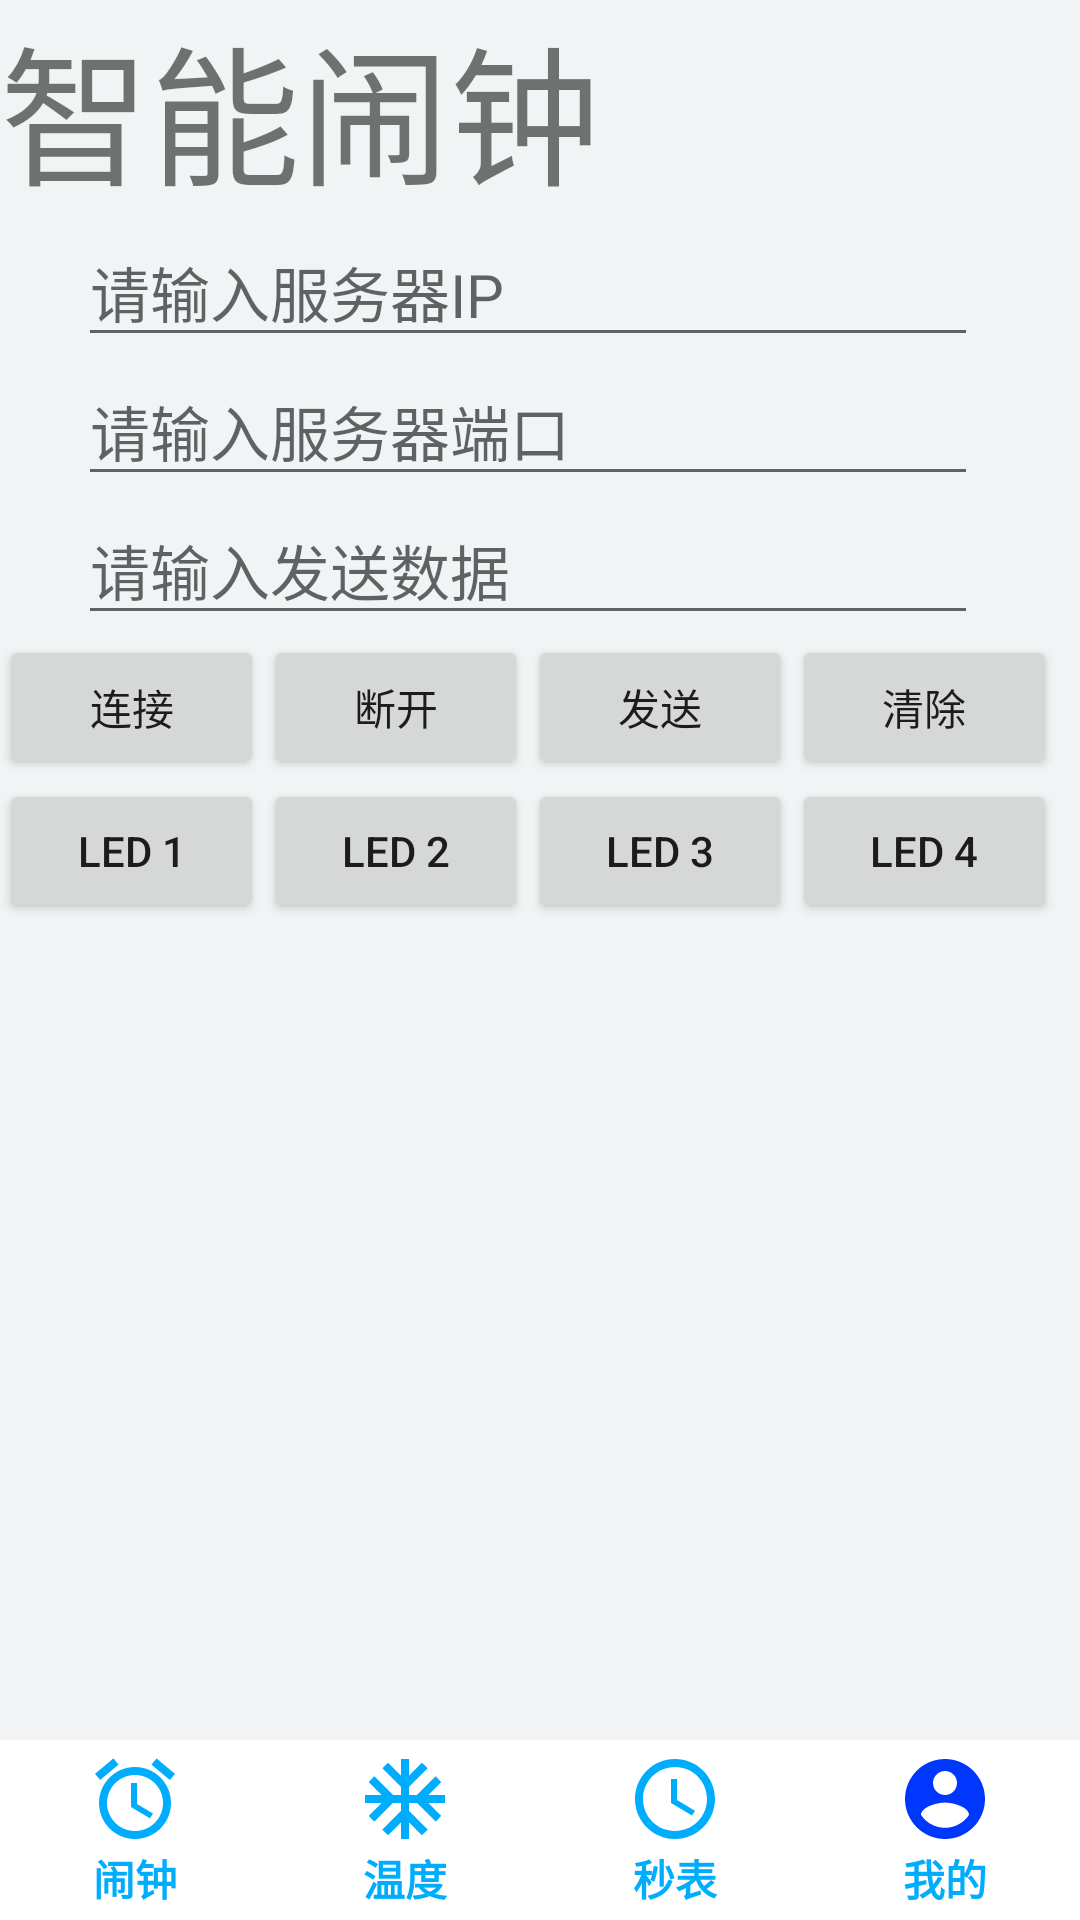

Screen size 1080*1920. Icon name, then its box in pixels as (x1, y1, x2, y2):
account circle: (905, 1759, 985, 1839)
